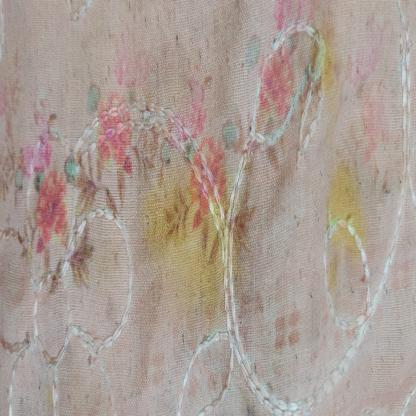spot: (125, 120, 245, 319), (183, 105, 233, 355), (314, 140, 372, 297), (301, 18, 344, 114)
